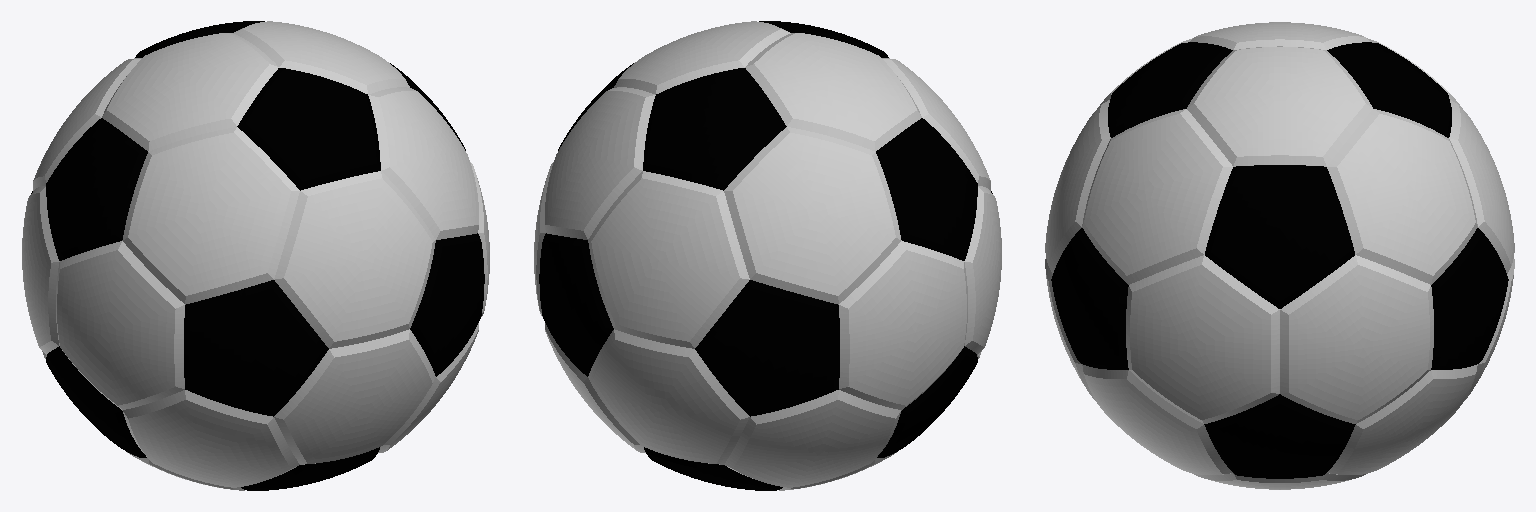
File: football.obj
3 views of the same model, side by side, from view 1: azimuth 30°, elevation 25°; view 2: azimuth 150°, elevation 25°; view 3: azimuth 270°, elevation 25° (orthographic).
Size of the model in its own units: 1.94 by 1.94 by 1.94.